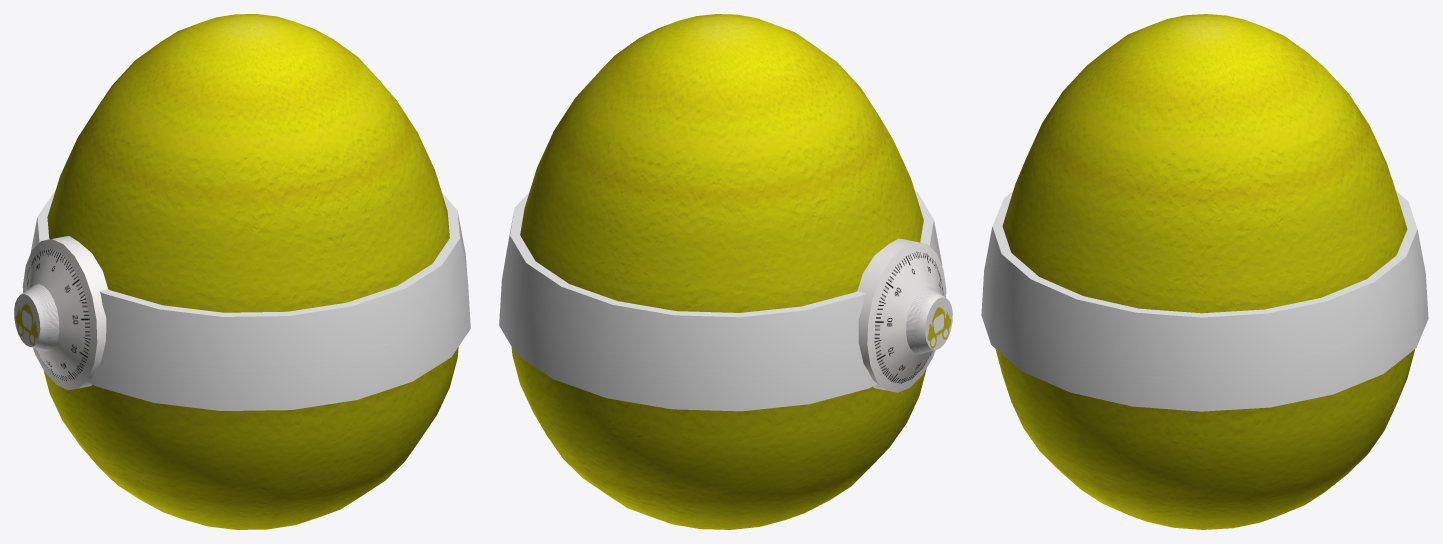
3 views of the same model, side by side, from view 1: azimuth 30°, elevation 25°; view 2: azimuth 150°, elevation 25°; view 3: azimuth 270°, elevation 25° (orthographic).
Visible parts, largest first — view 1: Tier171; view 2: Tier171; view 3: Tier171.
Boxes of the visible parts, <box> form: Tier171: <box>14,14,470,529</box>; Tier171: <box>499,14,952,529</box>; Tier171: <box>981,14,1428,529</box>.
Size of the model in its own units: 6.29 by 7 by 5.88.
Materials: 1 (1 with a texture image).
